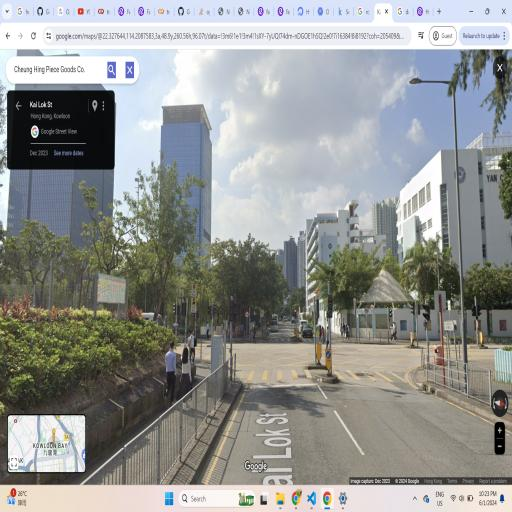Roads: (164, 336, 512, 488)
Trees: (84, 172, 193, 332), (212, 235, 282, 343)
